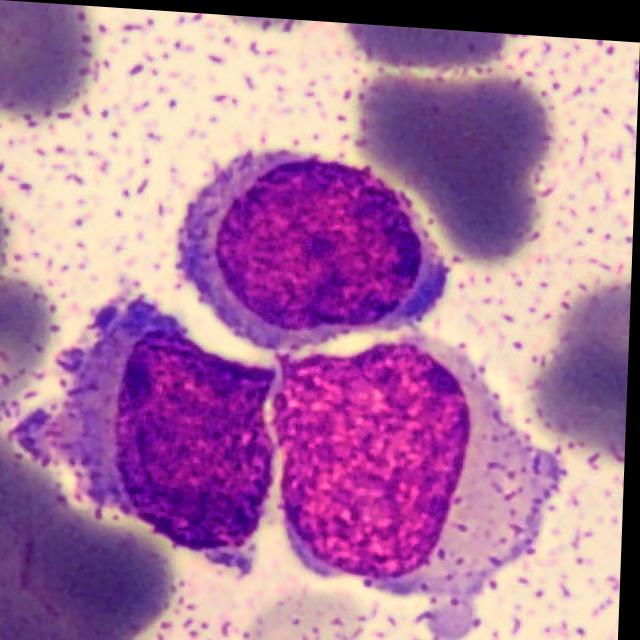Mieloblasto: (275, 327, 562, 590), (54, 305, 278, 571), (176, 147, 449, 350)
